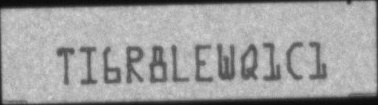1: (308, 40, 328, 81), (262, 41, 281, 82)
6: (102, 46, 122, 84)
8: (148, 44, 168, 83)
C: (286, 39, 302, 80)
E: (195, 43, 212, 83)
I: (79, 44, 98, 85)
L: (171, 44, 190, 82)
Q: (238, 42, 259, 81)
R: (126, 45, 144, 83)
T: (57, 46, 75, 86)
W: (216, 42, 234, 81)
